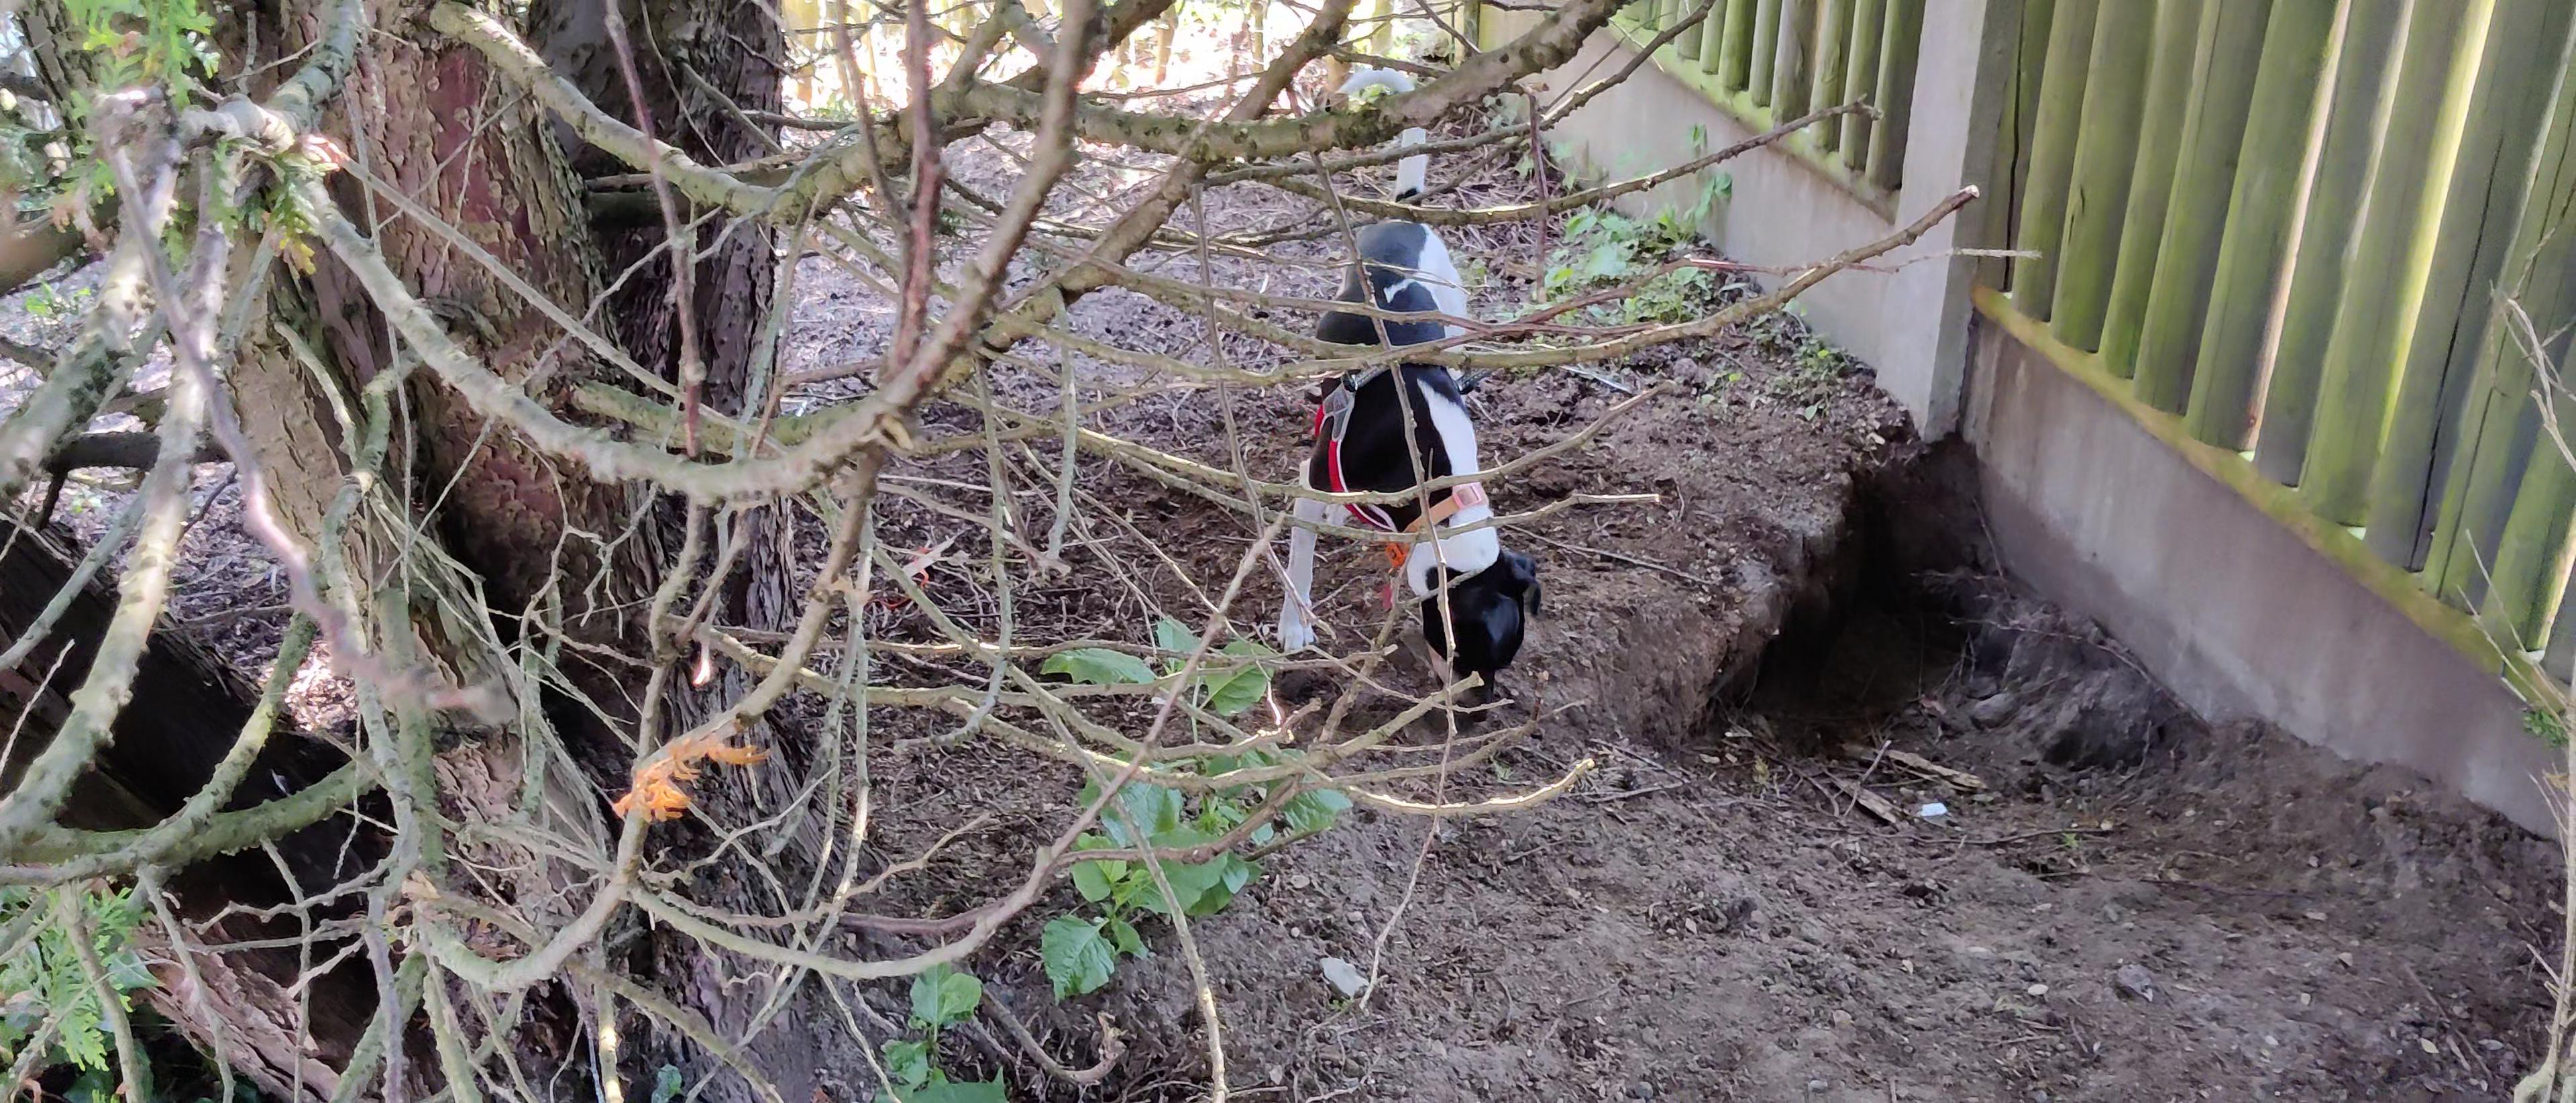Dog: (1252, 39, 1554, 763)
